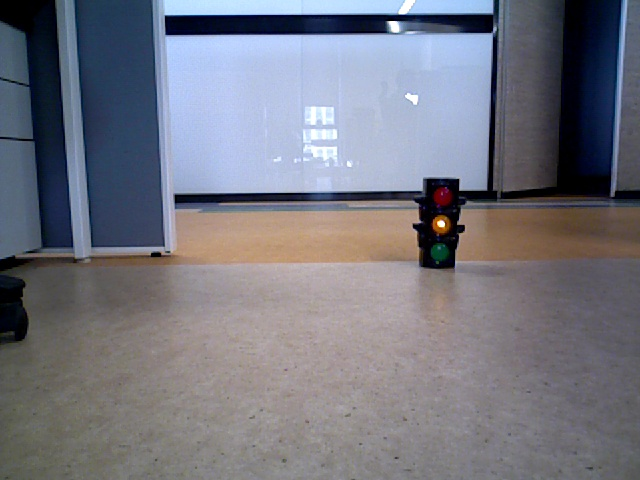yellow: (421, 180, 453, 269)
